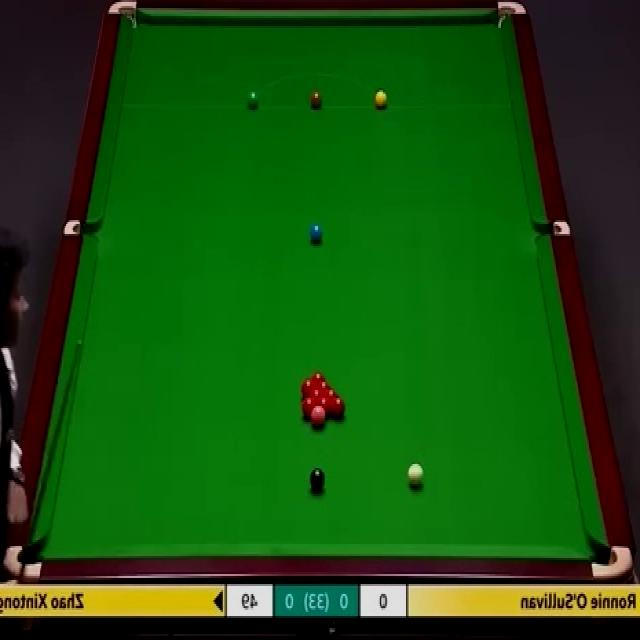pocket: (8, 538, 50, 578), (588, 545, 635, 580), (495, 0, 529, 28), (108, 0, 142, 28), (64, 220, 100, 237), (533, 220, 571, 235)
